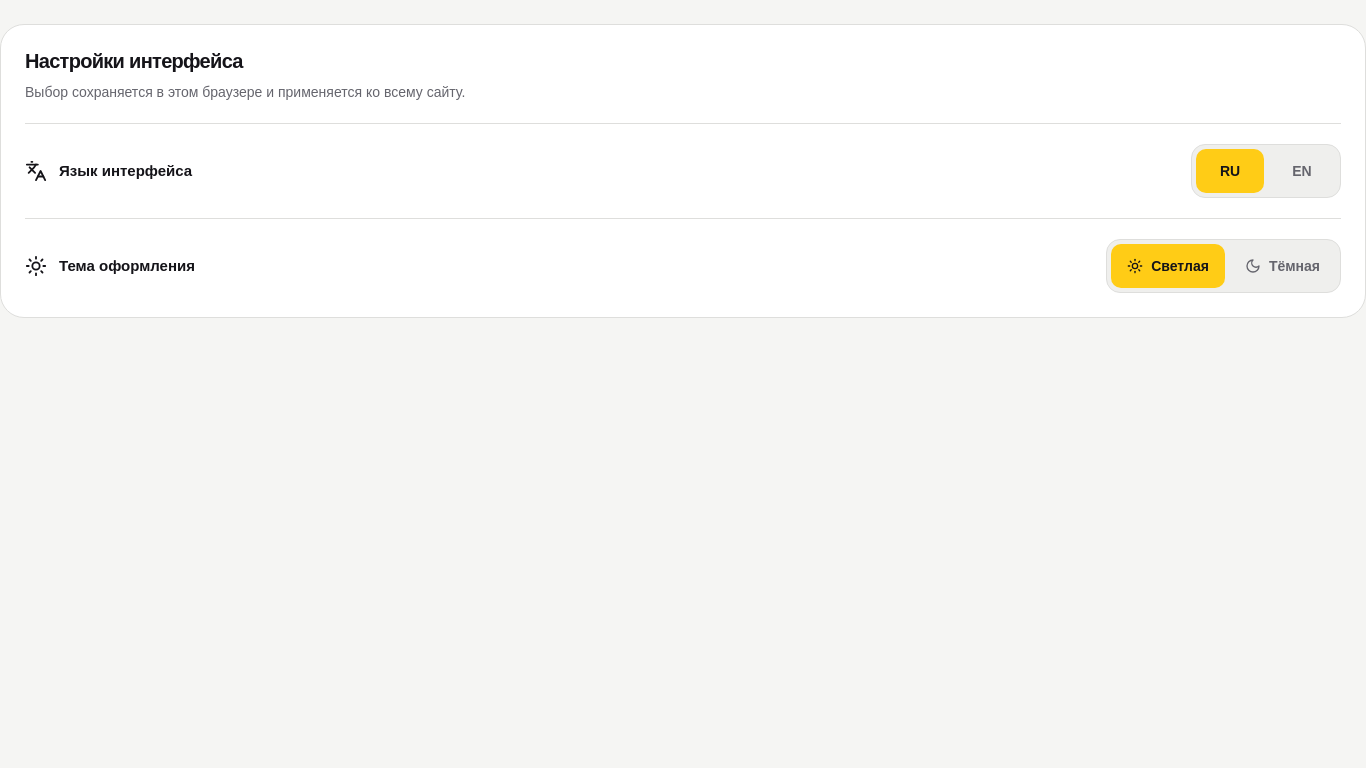
Test case: interface preferences › switches both controls immediately and persists their independent choices
This screenshot has width=1366, height=768.
Click the button "EN": (1302, 171) [1268,149,1336,193]
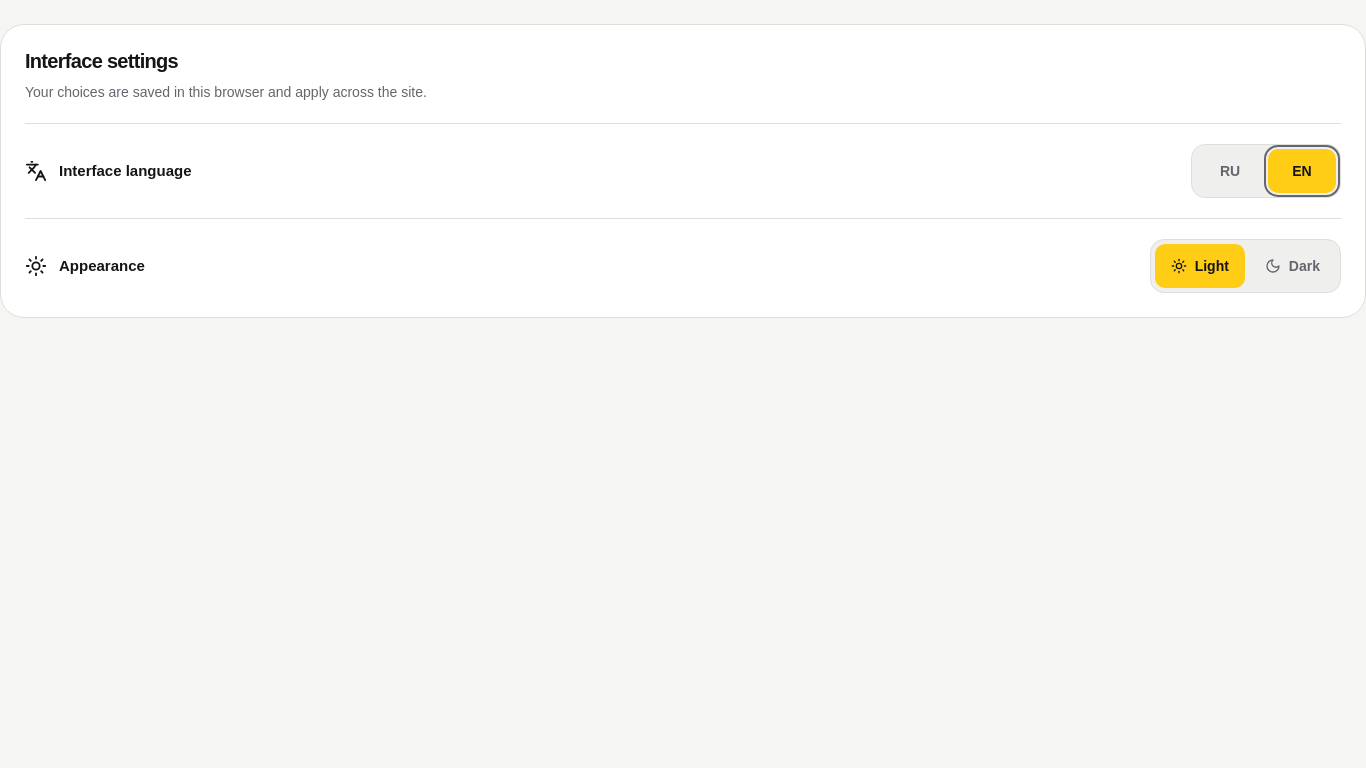
expect the heading "Interface settings" is shown: met, box [25,50,178,72]
Click the button "Dark": (1292, 266) [1249,244,1336,288]
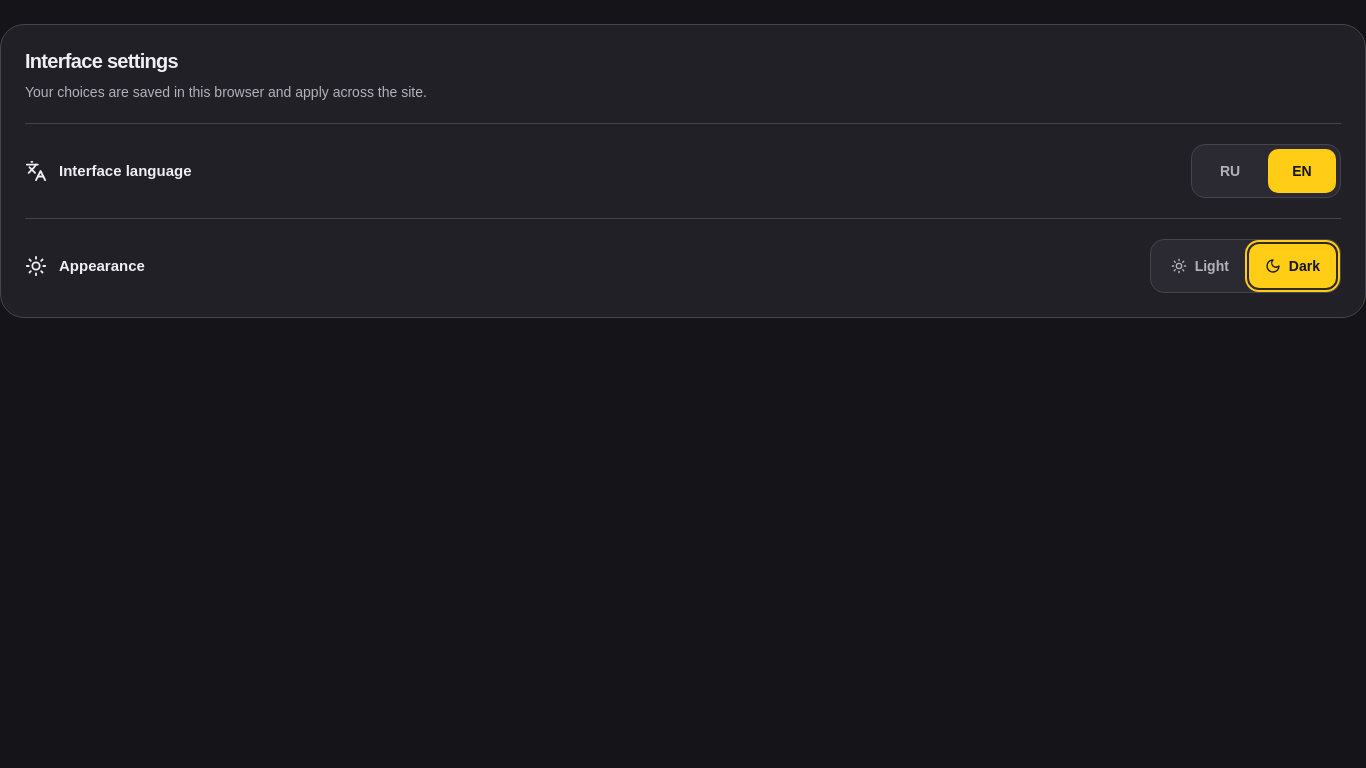
expect the button "Dark" is pressed: met, box [1249,244,1336,288]
Click the button "RU": (1230, 171) [1196,149,1264,193]
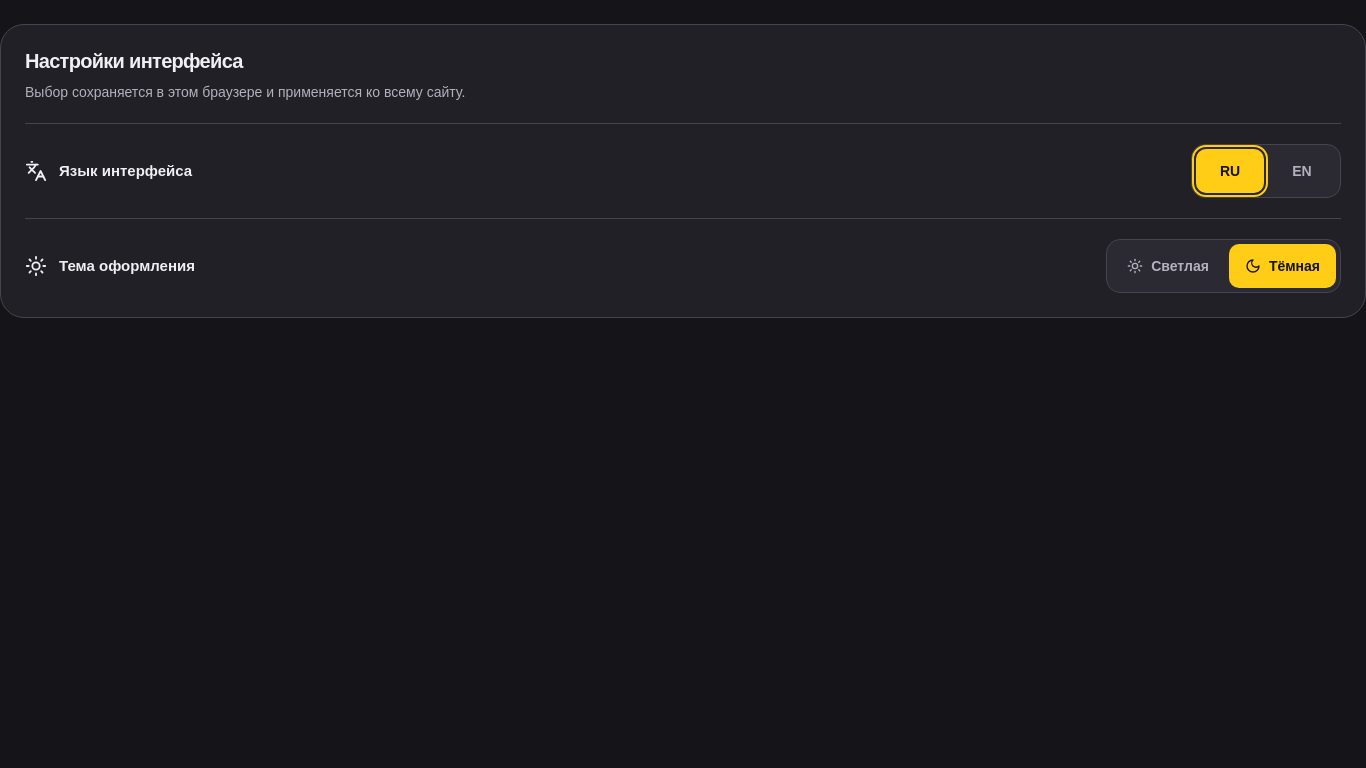
expect the heading "Настройки интерфейса" is shown: met, box [25,50,243,72]
